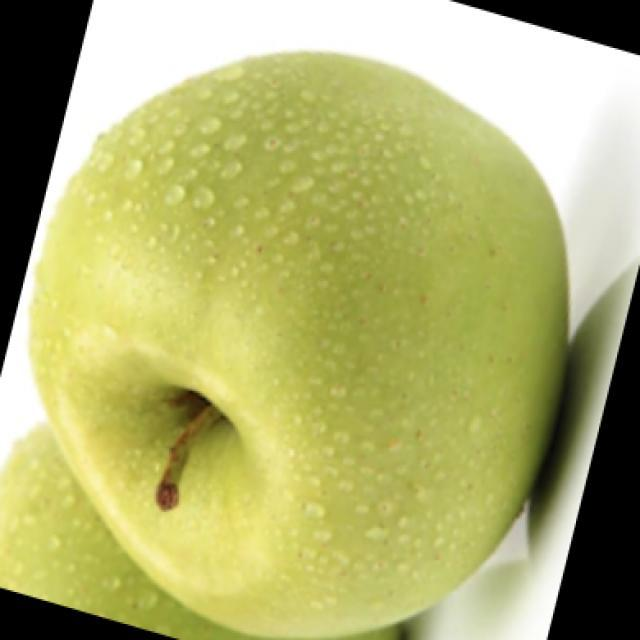Fresh Apple: (65, 65, 585, 640)
